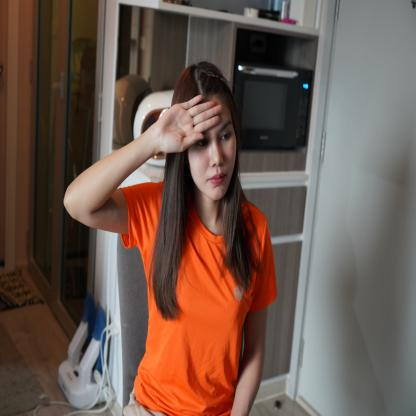Sick: (156, 92, 224, 159)
